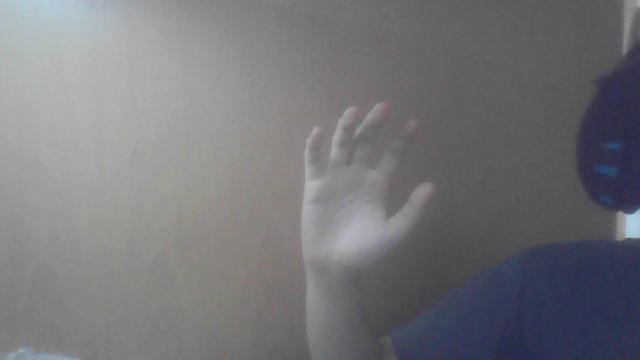Stop: (293, 97, 427, 263)
